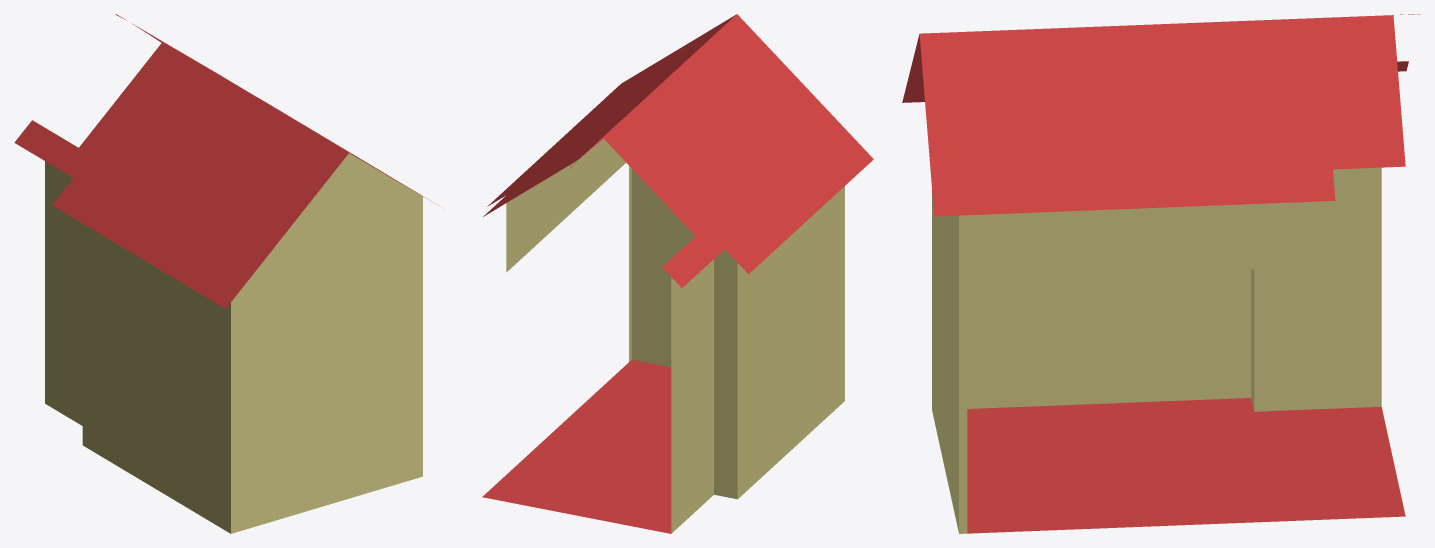
The picture shows the model from 3 angles, left to right: view 1: azimuth 30°, elevation 25°; view 2: azimuth 150°, elevation 25°; view 3: azimuth 270°, elevation 25°; orthographic projection. The views are drawn at different scales.
Bounding box in the file's own units: 10.43 × 14.17 × 13.43.
